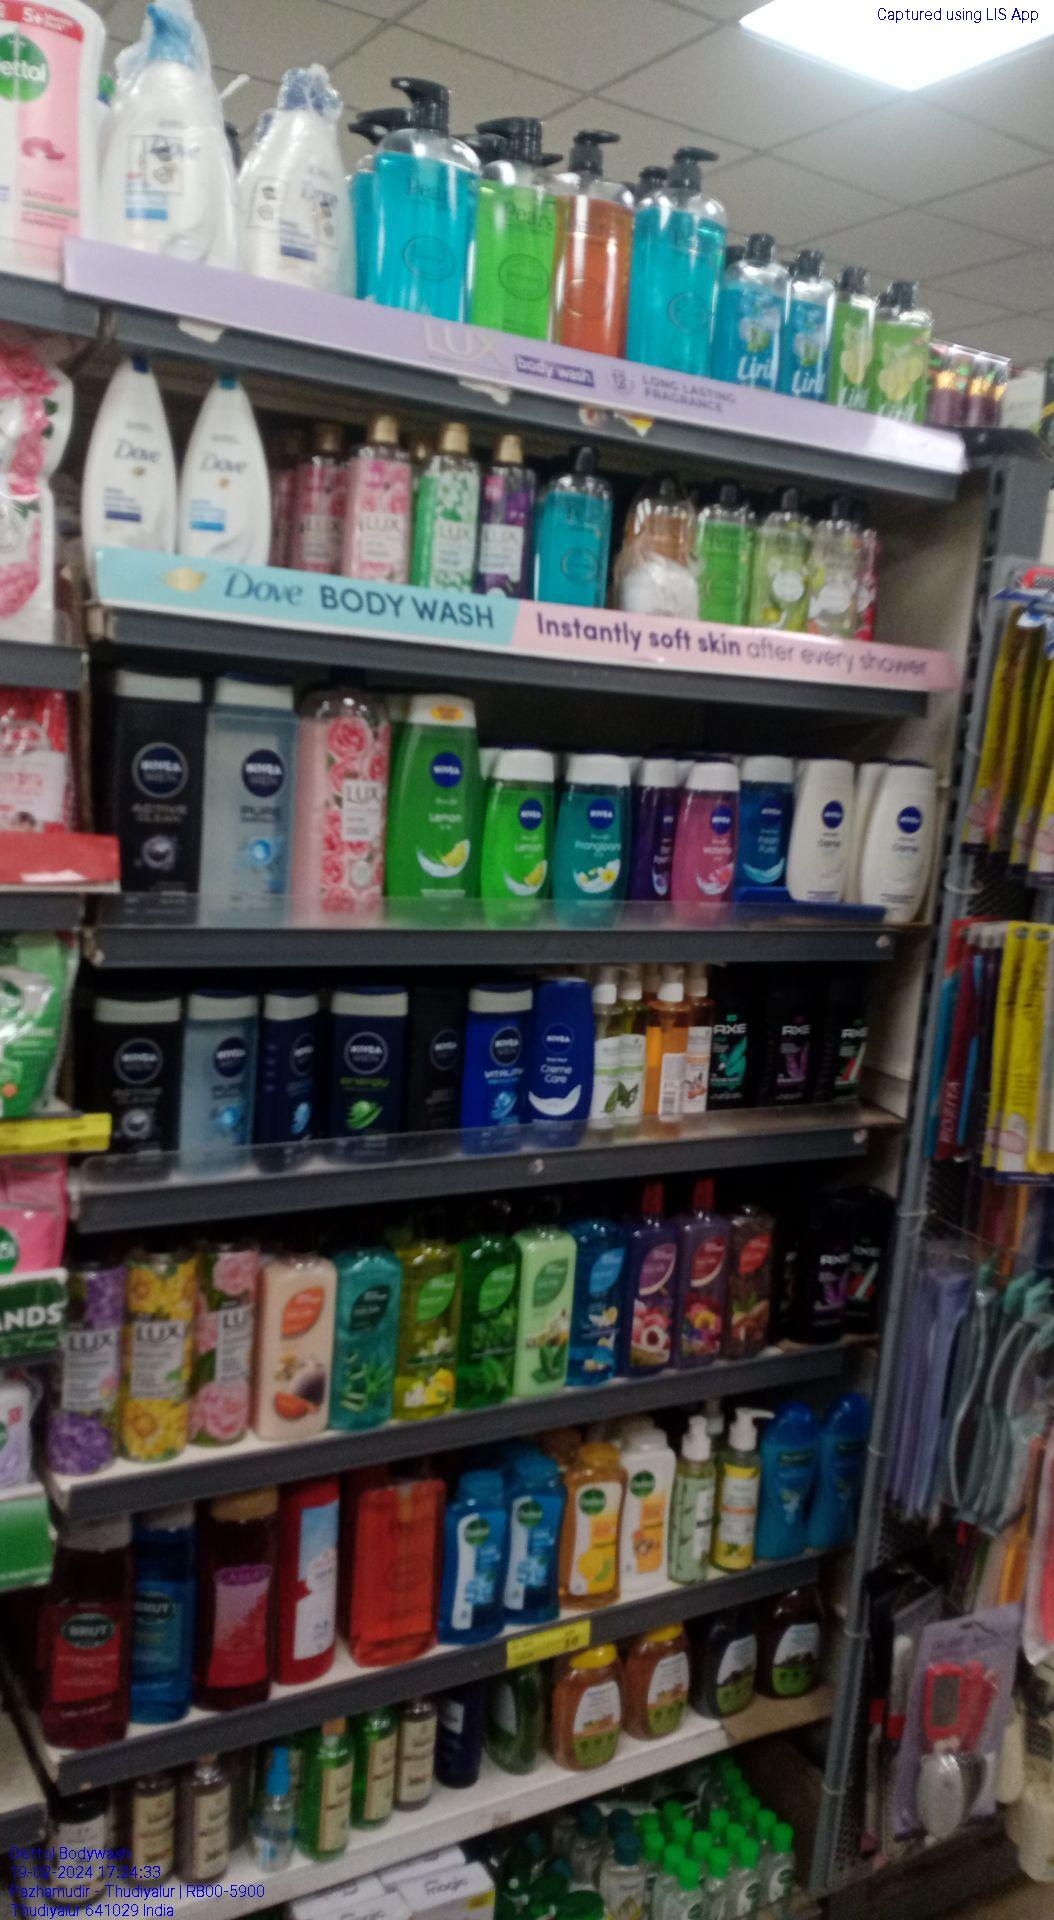Dettol_Bodywash_Cool: (443, 1467, 510, 1642), (513, 1454, 563, 1623)
Dettol_Bodywash_Refresh: (571, 1446, 624, 1607), (628, 1428, 671, 1585)
Dove_Deep_Moisture_Body_Wash_250ML: (80, 354, 175, 554), (179, 363, 273, 557)
Liril_Cooling_Mint_Body_Wash_250ML: (724, 236, 789, 385), (794, 253, 835, 394)
Liril_Lime_and_Tea_Tree_Oil_Body_Wash_250ML: (877, 274, 931, 416), (840, 267, 872, 406)
Lux_Black_Orchid_Scent_and_Juniper_Oil_Body_Wash_245ML: (485, 419, 537, 597)
Lux_Body_Wash_Skin_Detox_Freesia_Scent_and_Alove_Vera_245ML: (423, 414, 480, 592)
Nivea_Creme_Care_Body_Wash_250ML: (862, 764, 936, 909), (531, 974, 593, 1147), (789, 758, 853, 903)
Nivea_Shower_Gel_Frangipani_and_Oil_250ML: (561, 754, 632, 902)
Nivea_Shower_Gel_Lemon_and_Oil_250ML: (388, 694, 485, 902), (491, 754, 556, 903)
Nivea_Shower_Gel_Waterlily_and_Oil_250ML: (672, 764, 735, 900)
Pears_Naturale_Aloe_Vera_Body_Wash_250ML: (758, 480, 814, 629)
Pears_Pure_Glycerin_and_Lemon_Flower_Extracts_Body_Wash_250ML: (701, 479, 753, 621)
Pears_Pure_Glycerin_and_Mint_Extracts_Body_Wash_250ML: (543, 442, 613, 601)
